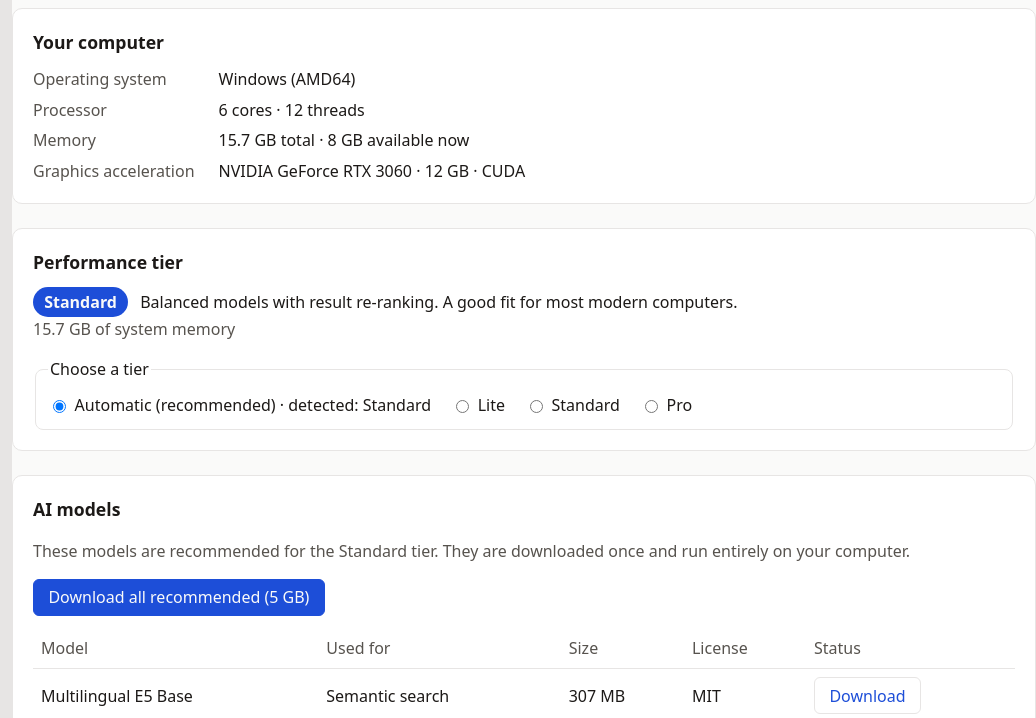
Test: SettingsPage › applies a manual tier and refreshes recommendations
Step 1. Click the radio button labelled "Pro" → (651, 407), box top-left (645, 400), bottom-right (658, 413)
(page scrolled)
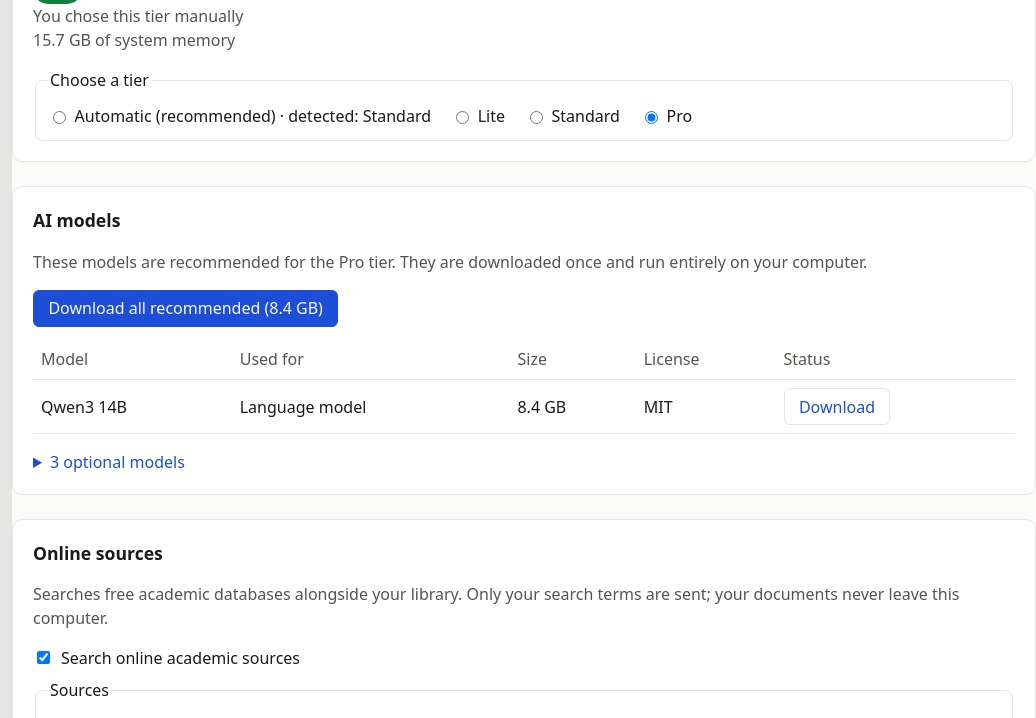
Check: the radio button labelled "Pro" is checked, box top-left (645, 111), bottom-right (658, 124)
Check: the element "Performance tier" shows "You chose this tier manually", box top-left (33, 5), bottom-right (244, 27)
Check: the element "AI models" shows "recommended for the Pro tier", box top-left (33, 251), bottom-right (867, 273)
